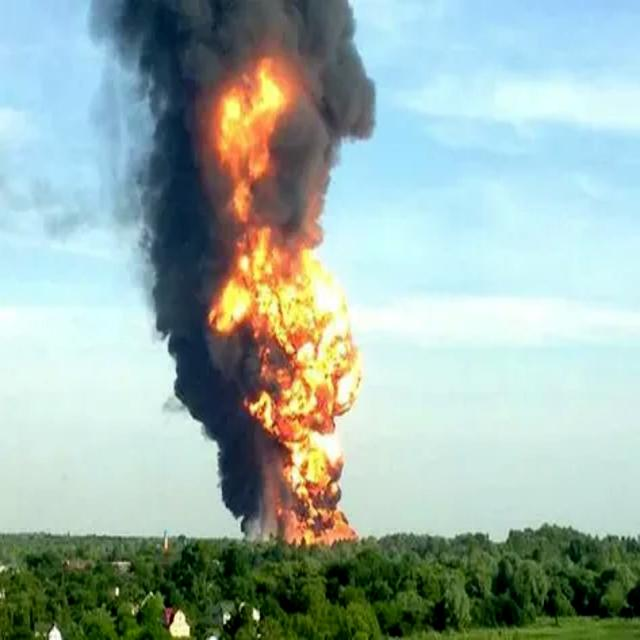no_helmet: (88, 3, 443, 535)
